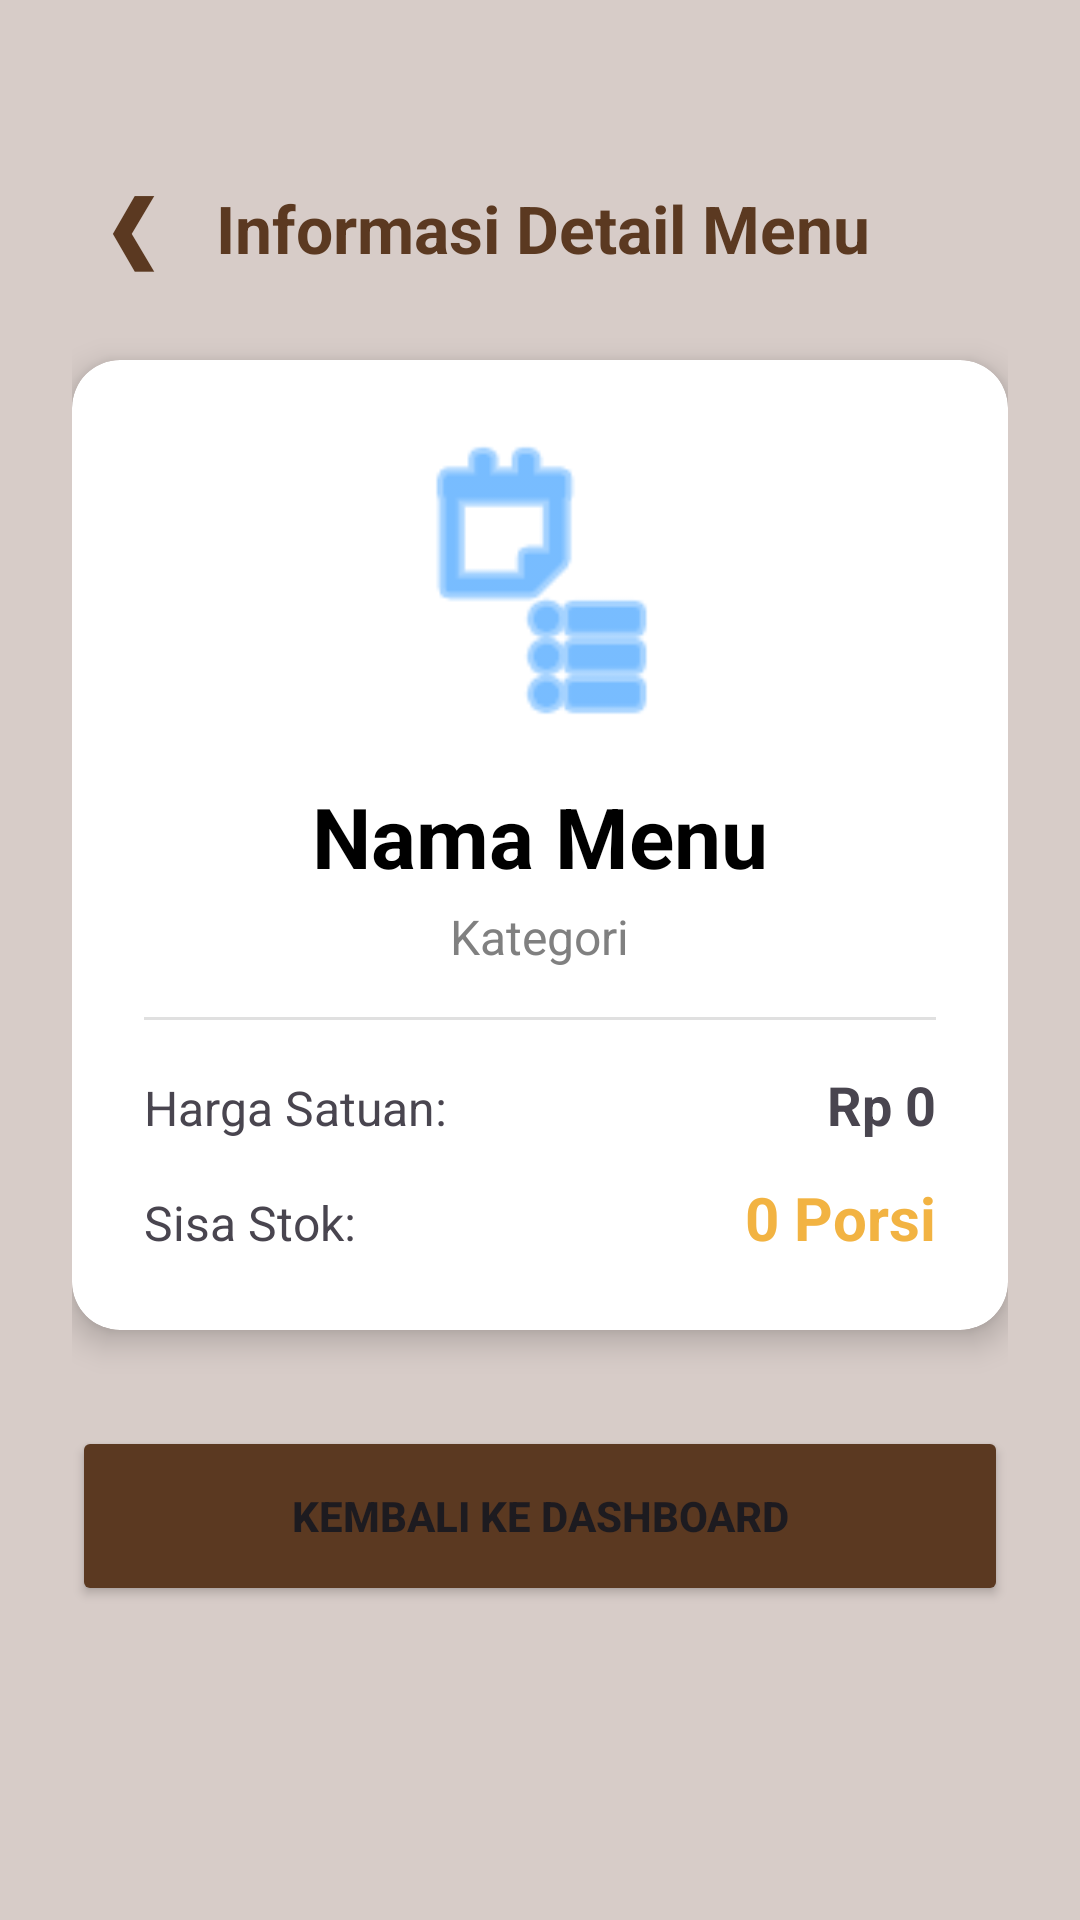

Named icons in this screenshot (1080 x 1920) and their centers, (x=x, y=y):
agenda: (x=541, y=580)
